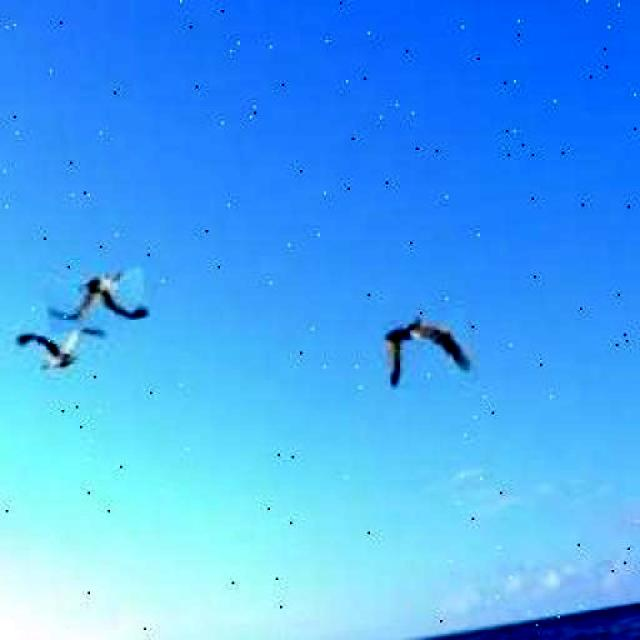airplane: (381, 309, 475, 389), (44, 269, 150, 335), (12, 322, 110, 376)
